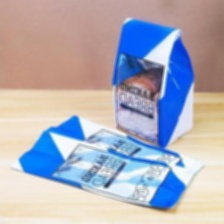snack: (5, 109, 212, 214), (108, 11, 200, 153)
